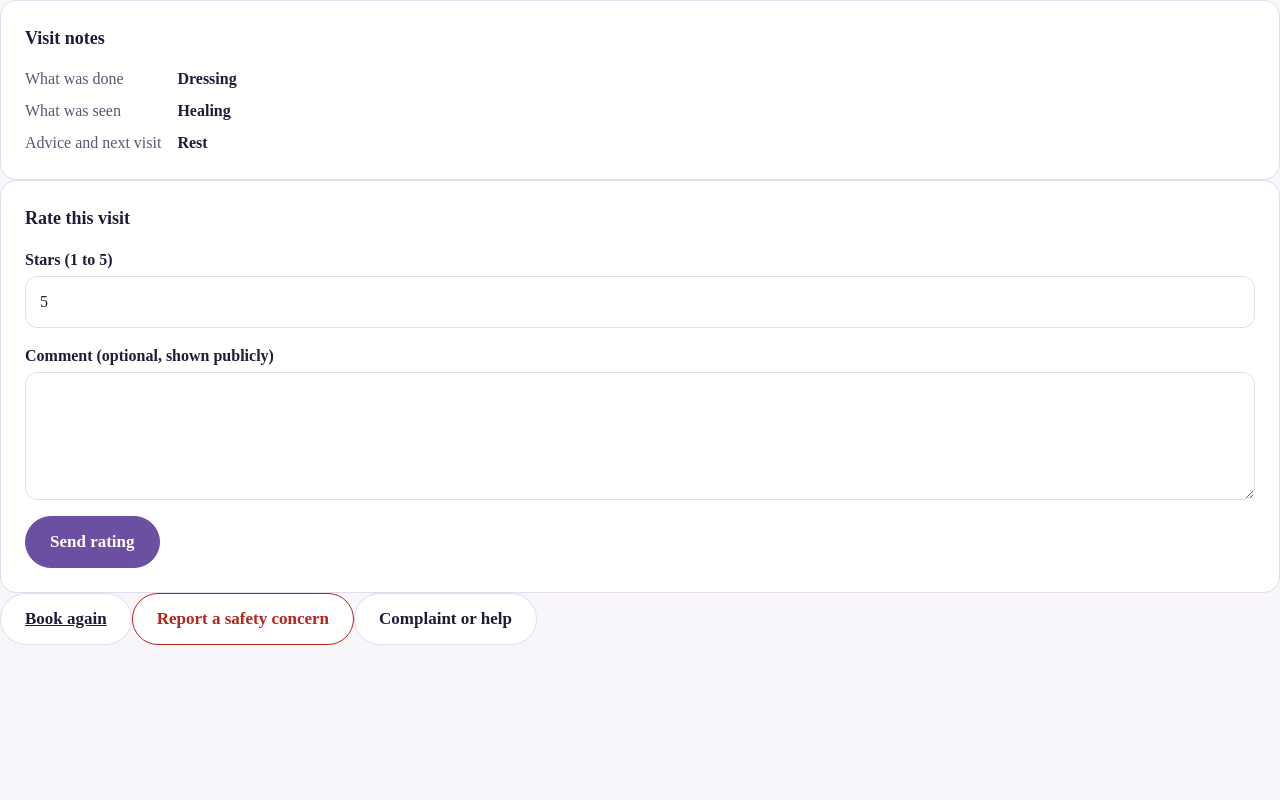
Scenario: The patient side of a visit (HS-03, HS-06, RF-01, A12, BK-09) › HS-04 RF-01 BK-09 a completed visit shows its notes, a rating form and book again
Check: the text "Healing" is shown, box [177,102,231,119]
Step 1. Replace the text in the number field labelled "Stars (1 to 5)" with "4" → (640, 302), box [25,276,1255,328]
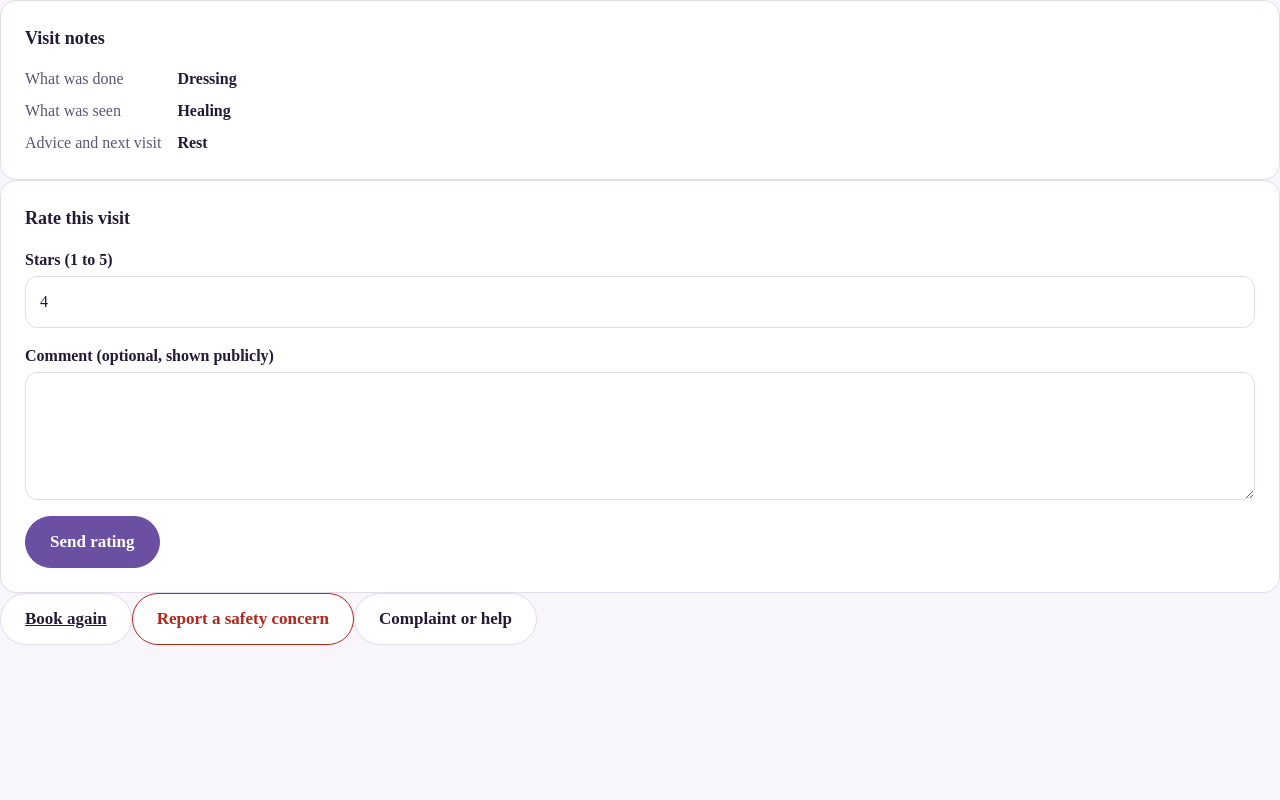
Step 2. Click the button "Send rating" → click(92, 542), box [25,516,160,568]
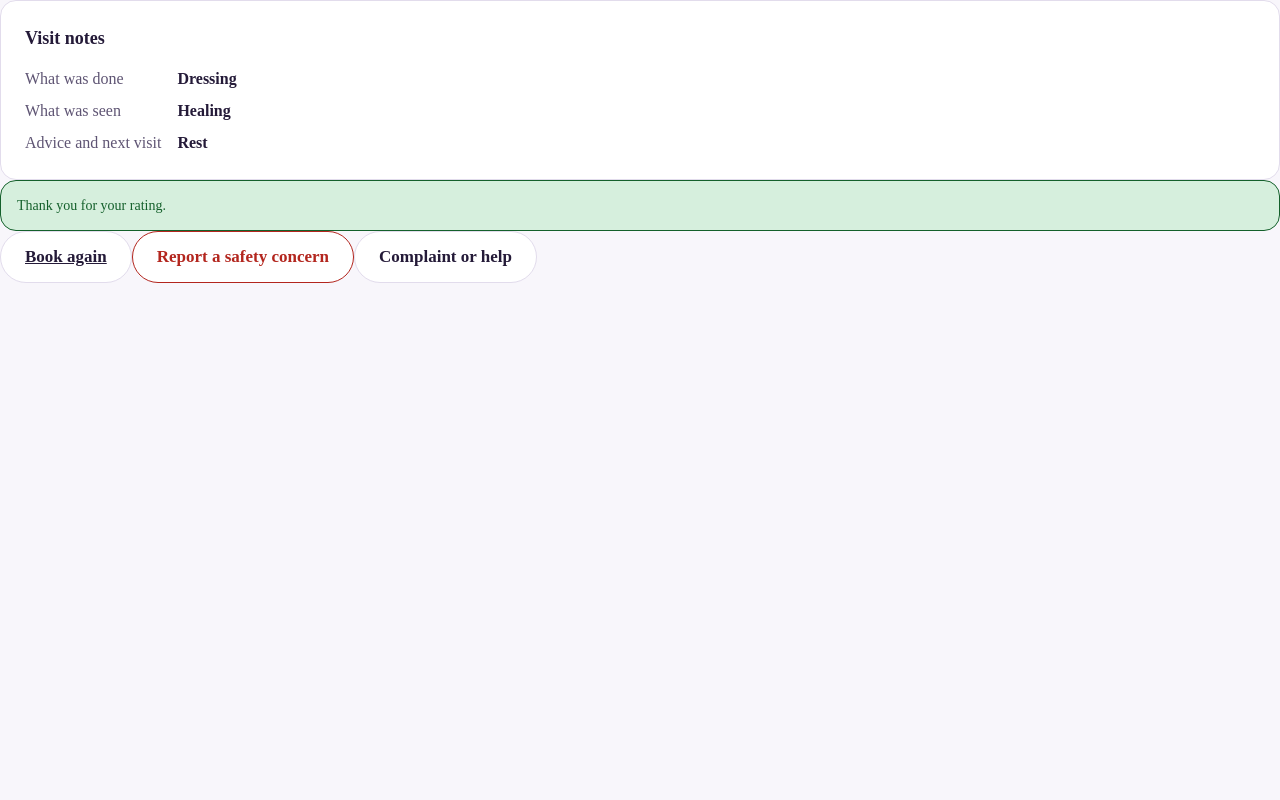
Check: the text "Thank you for your rating." is shown, box [17,195,166,216]
